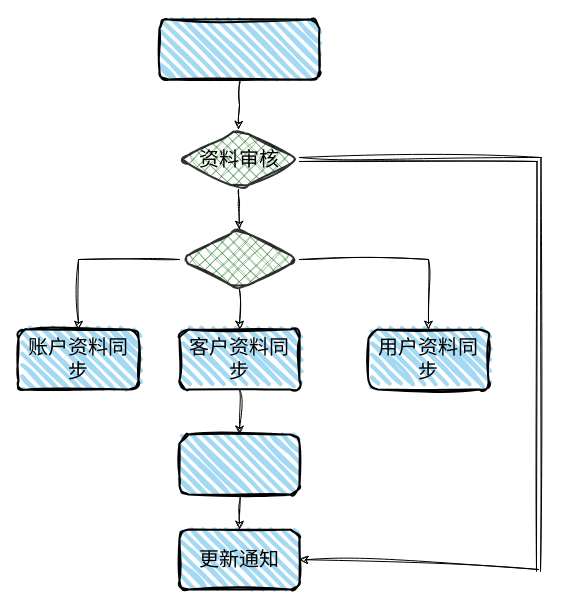
Image size: 564x608. Some labels were removed from this diagram. The centre of each missing label's shape, as x and y in pixels:
"三户p判断" goes at pixel 239 259.
"处理变更请求" goes at pixel 239 464.
"提交变更申请" goes at pixel 239 49.
